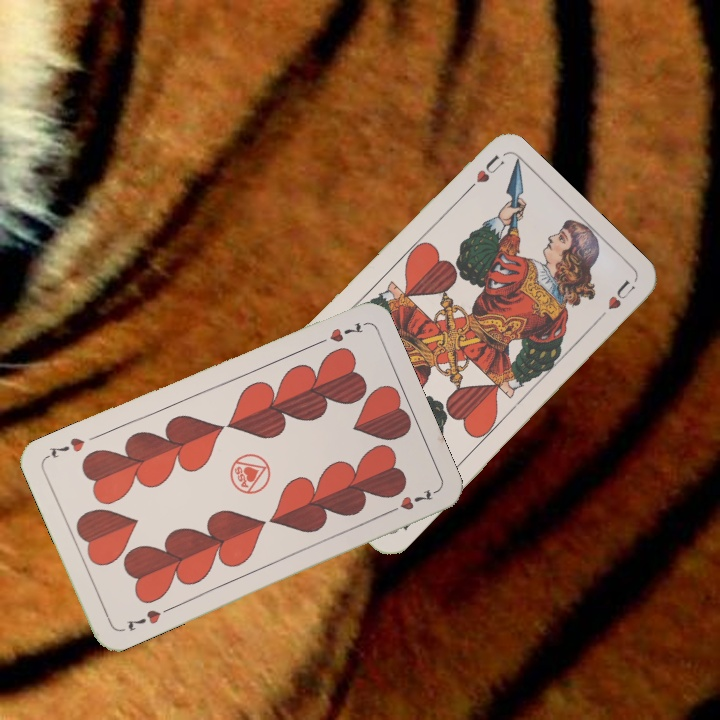H7: (310, 318, 366, 349), (122, 603, 174, 634)
HU: (459, 150, 508, 198)
